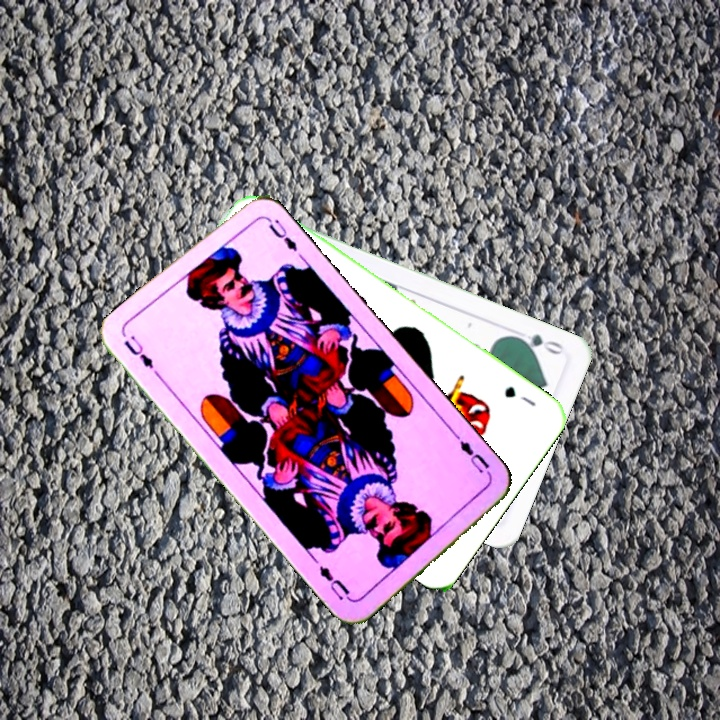EU: (455, 436, 494, 480), (120, 331, 156, 372)
GO: (509, 330, 566, 358)
GU: (500, 382, 539, 409)
